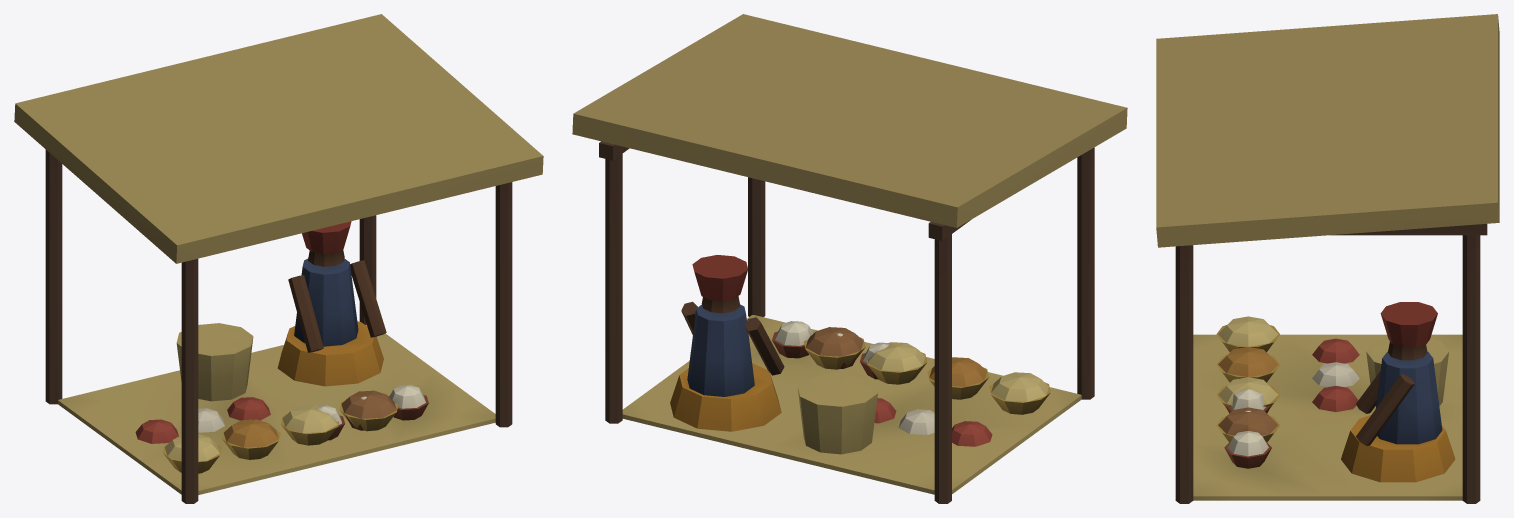
Rendered from stall-fruit.glb.
The picture shows the model from 3 angles, left to right: view 1: azimuth 30°, elevation 25°; view 2: azimuth 150°, elevation 25°; view 3: azimuth 270°, elevation 25°; orthographic projection. The views are drawn at different scales.
Visible parts, largest first — view 1: base; view 2: base; view 3: base.
Boxes of the visible parts, x1,y1,x2,y2 form: base: (14,14,543,503); base: (572,14,1127,503); base: (1156,14,1499,503).
Bounding box in the file's own units: 2.8 × 2.16 × 2.15.
